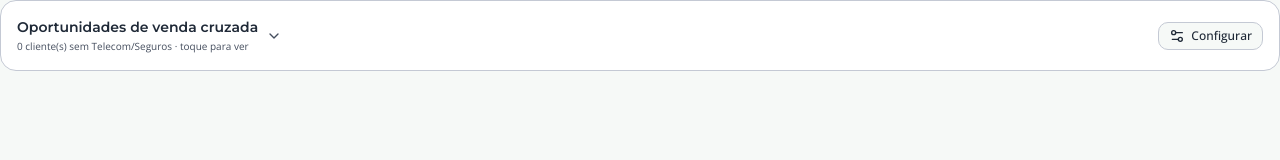
Test case: CrossSellCard — recolhido por padrão › nasce fechado e abre no clique, sem esconder o botão Configurar
Check: the button "Configurar" is shown, box left=1158, top=22, right=1263, bottom=50
Check: the text "Clientes de energia que ainda não têm" is not shown
Click the heading "Oportunidades de venda cruzada".
click(138, 27)  # box left=17, top=17, right=258, bottom=37
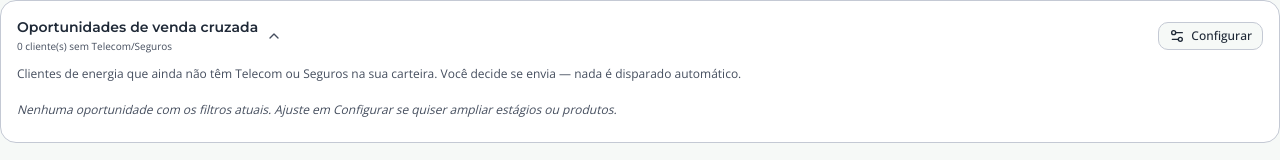
Check: the text "Clientes de energia que ainda não têm" is shown, box left=17, top=65, right=741, bottom=82
